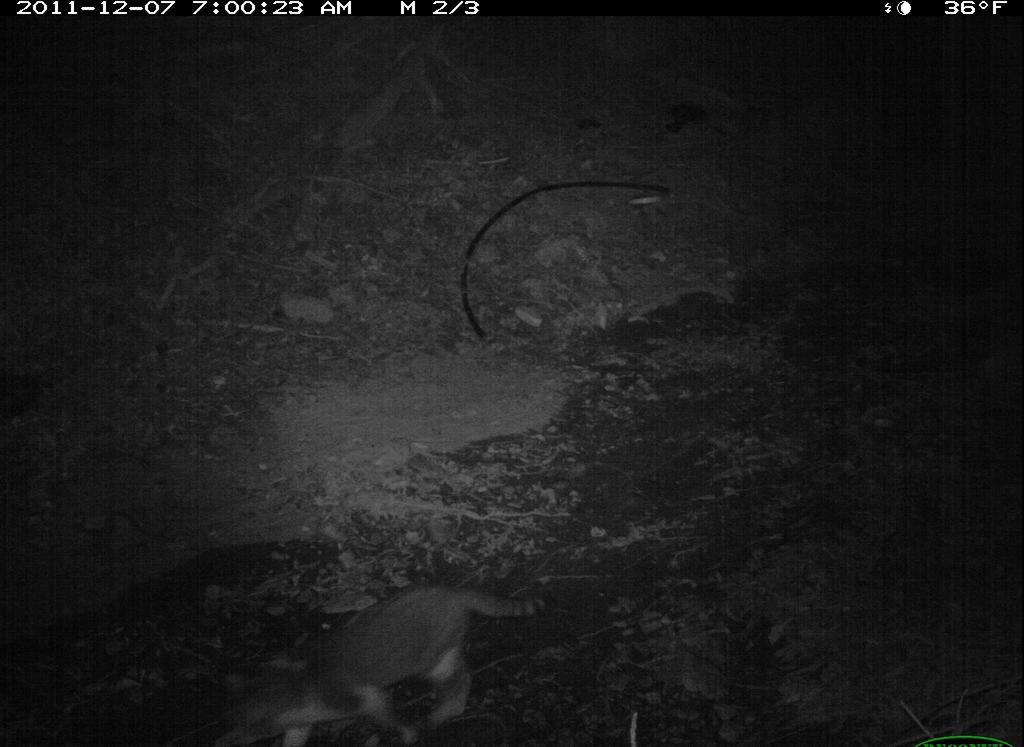cat: (222, 575, 546, 745)
